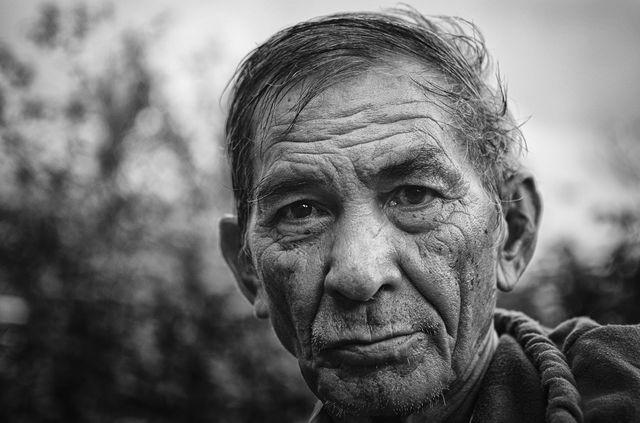crows_feet: (441, 184, 469, 216), (256, 221, 284, 249)
forehead: (342, 114, 426, 146), (266, 123, 328, 151)
frown_line: (348, 160, 368, 183)
gummy_smile: (395, 262, 437, 310), (304, 277, 328, 337)
masseter: (452, 284, 468, 356), (443, 218, 471, 240)
smoker_lines: (359, 304, 375, 332)
